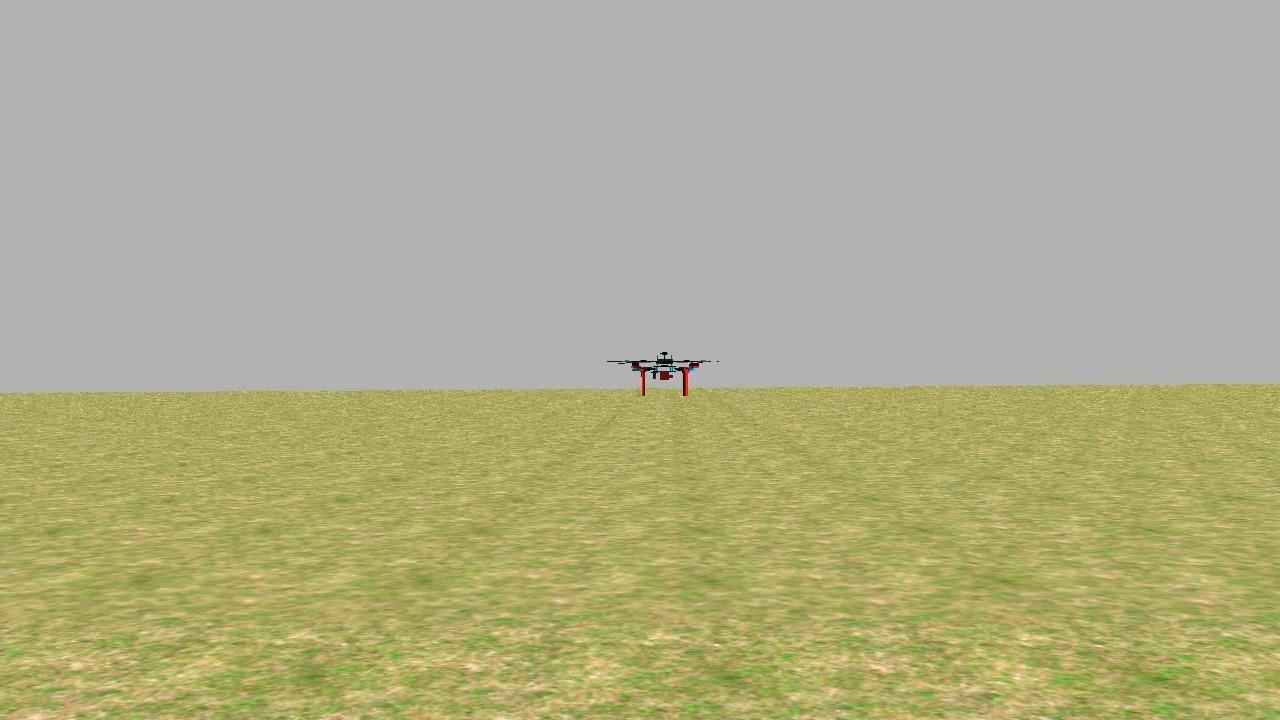UAV: (608, 327, 719, 402)
